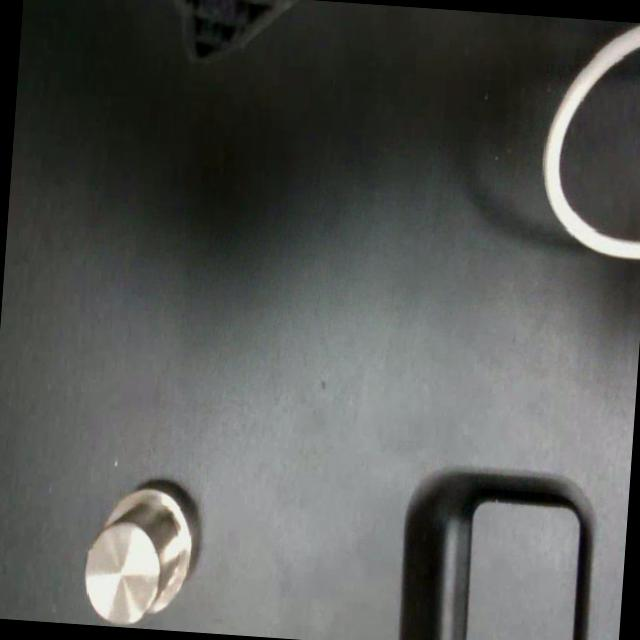sensor: (80, 481, 198, 630)
